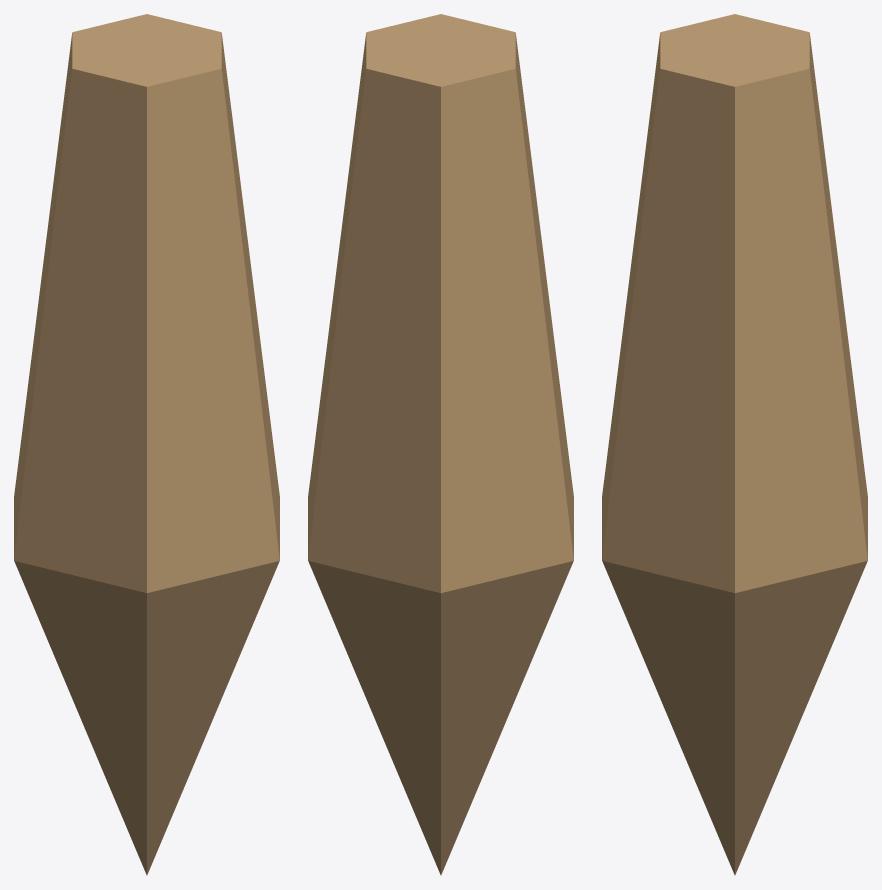
File: prop-scratch-awl-handle-sa1.fbx
3 views of the same model, side by side, from view 1: azimuth 30°, elevation 25°; view 2: azimuth 150°, elevation 25°; view 3: azimuth 270°, elevation 25° (orthographic).
Visible parts, largest first — view 1: prop-scratch-awl-handle-sa1; view 2: prop-scratch-awl-handle-sa1; view 3: prop-scratch-awl-handle-sa1.
Part boxes in pixels (left/top/right/bottom): prop-scratch-awl-handle-sa1: left=14, top=14, right=279, bottom=875; prop-scratch-awl-handle-sa1: left=308, top=14, right=573, bottom=875; prop-scratch-awl-handle-sa1: left=602, top=14, right=867, bottom=875.
Size of the model in its own units: 3.2 by 9.5 by 2.77.
